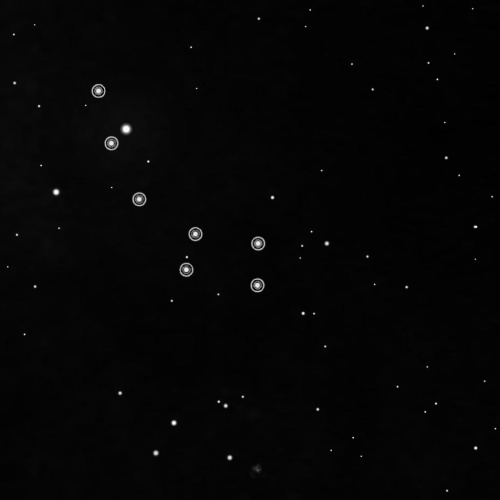ursa_minor: (84, 77, 277, 299)
